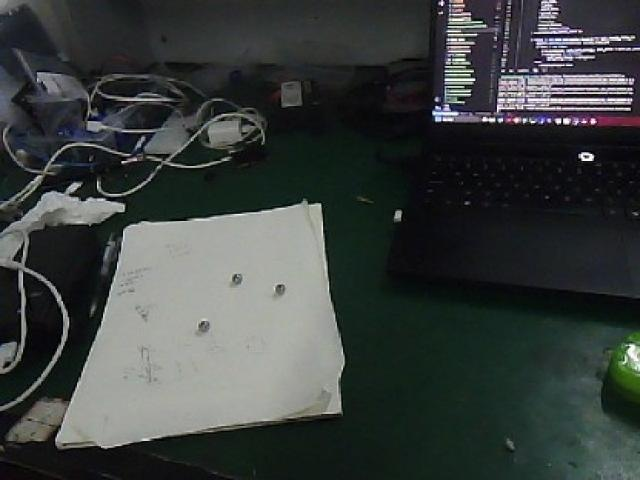steel-ball: (191, 304, 215, 342), (263, 270, 285, 304), (217, 262, 245, 288)
